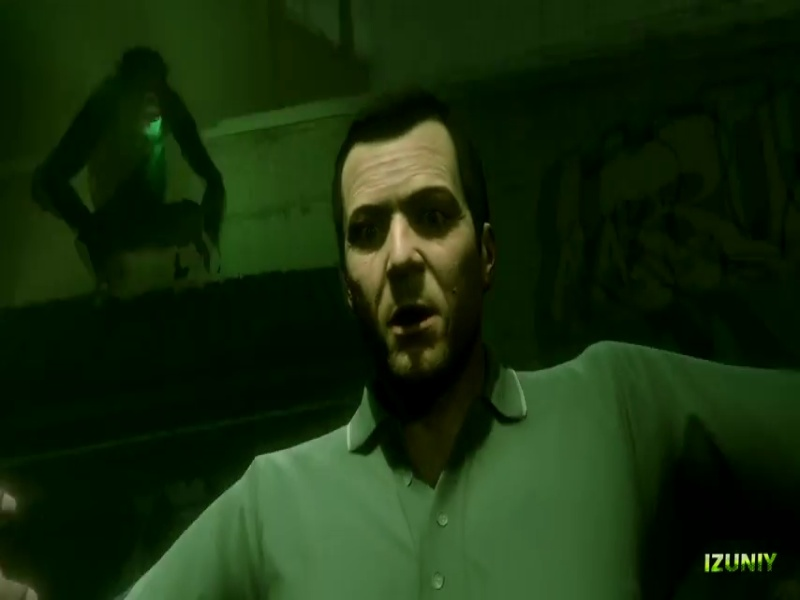human: (103, 86, 787, 596)
